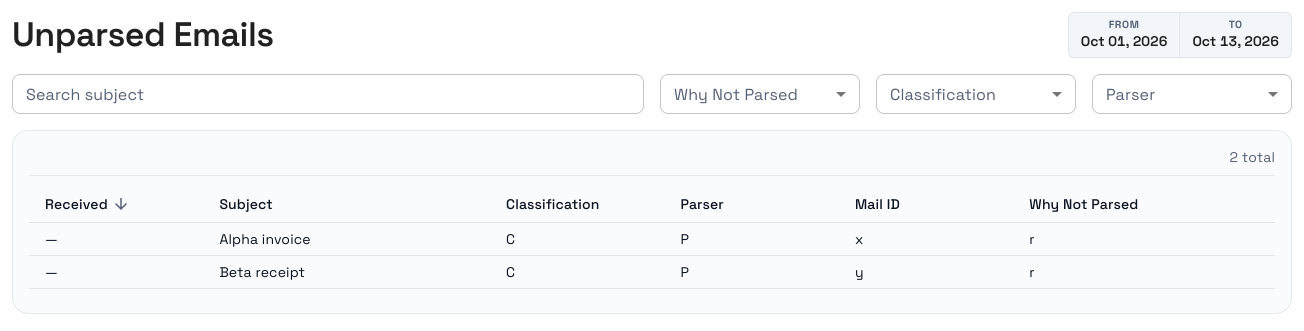
Test case: UnparsedEmails › filters rows by subject search
This screenshot has width=1304, height=331.
expect the text "Alpha invoice" is shown: met, box [203,222,490,255]
expect the text "Beta receipt" is shown: met, box [203,255,490,288]
In the field labelled "Search subject": (328, 94) [12,74,644,114], type "beta"
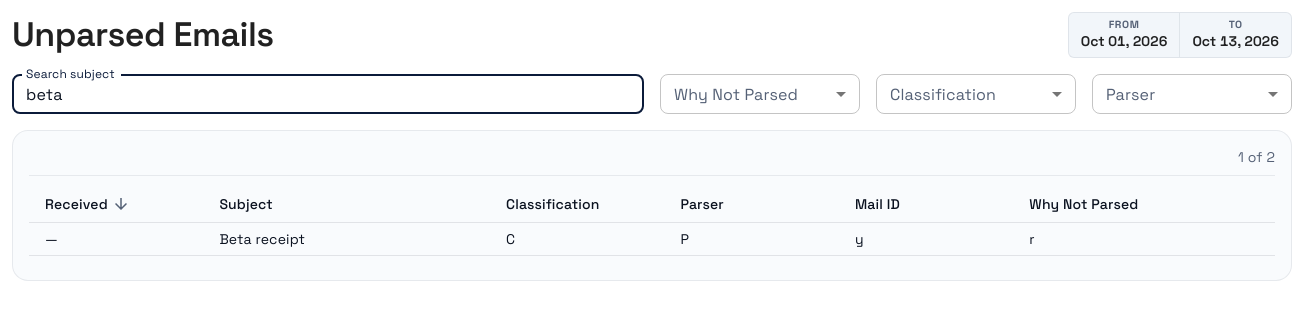
expect the text "Beta receipt" is shown: met, box [203,222,490,255]
expect the button "Alpha invoice" is gone: met
